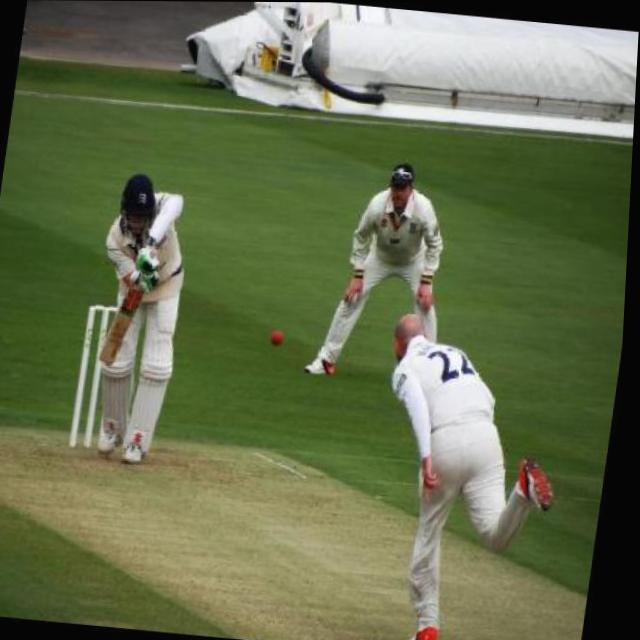-: (264, 306, 309, 369)
